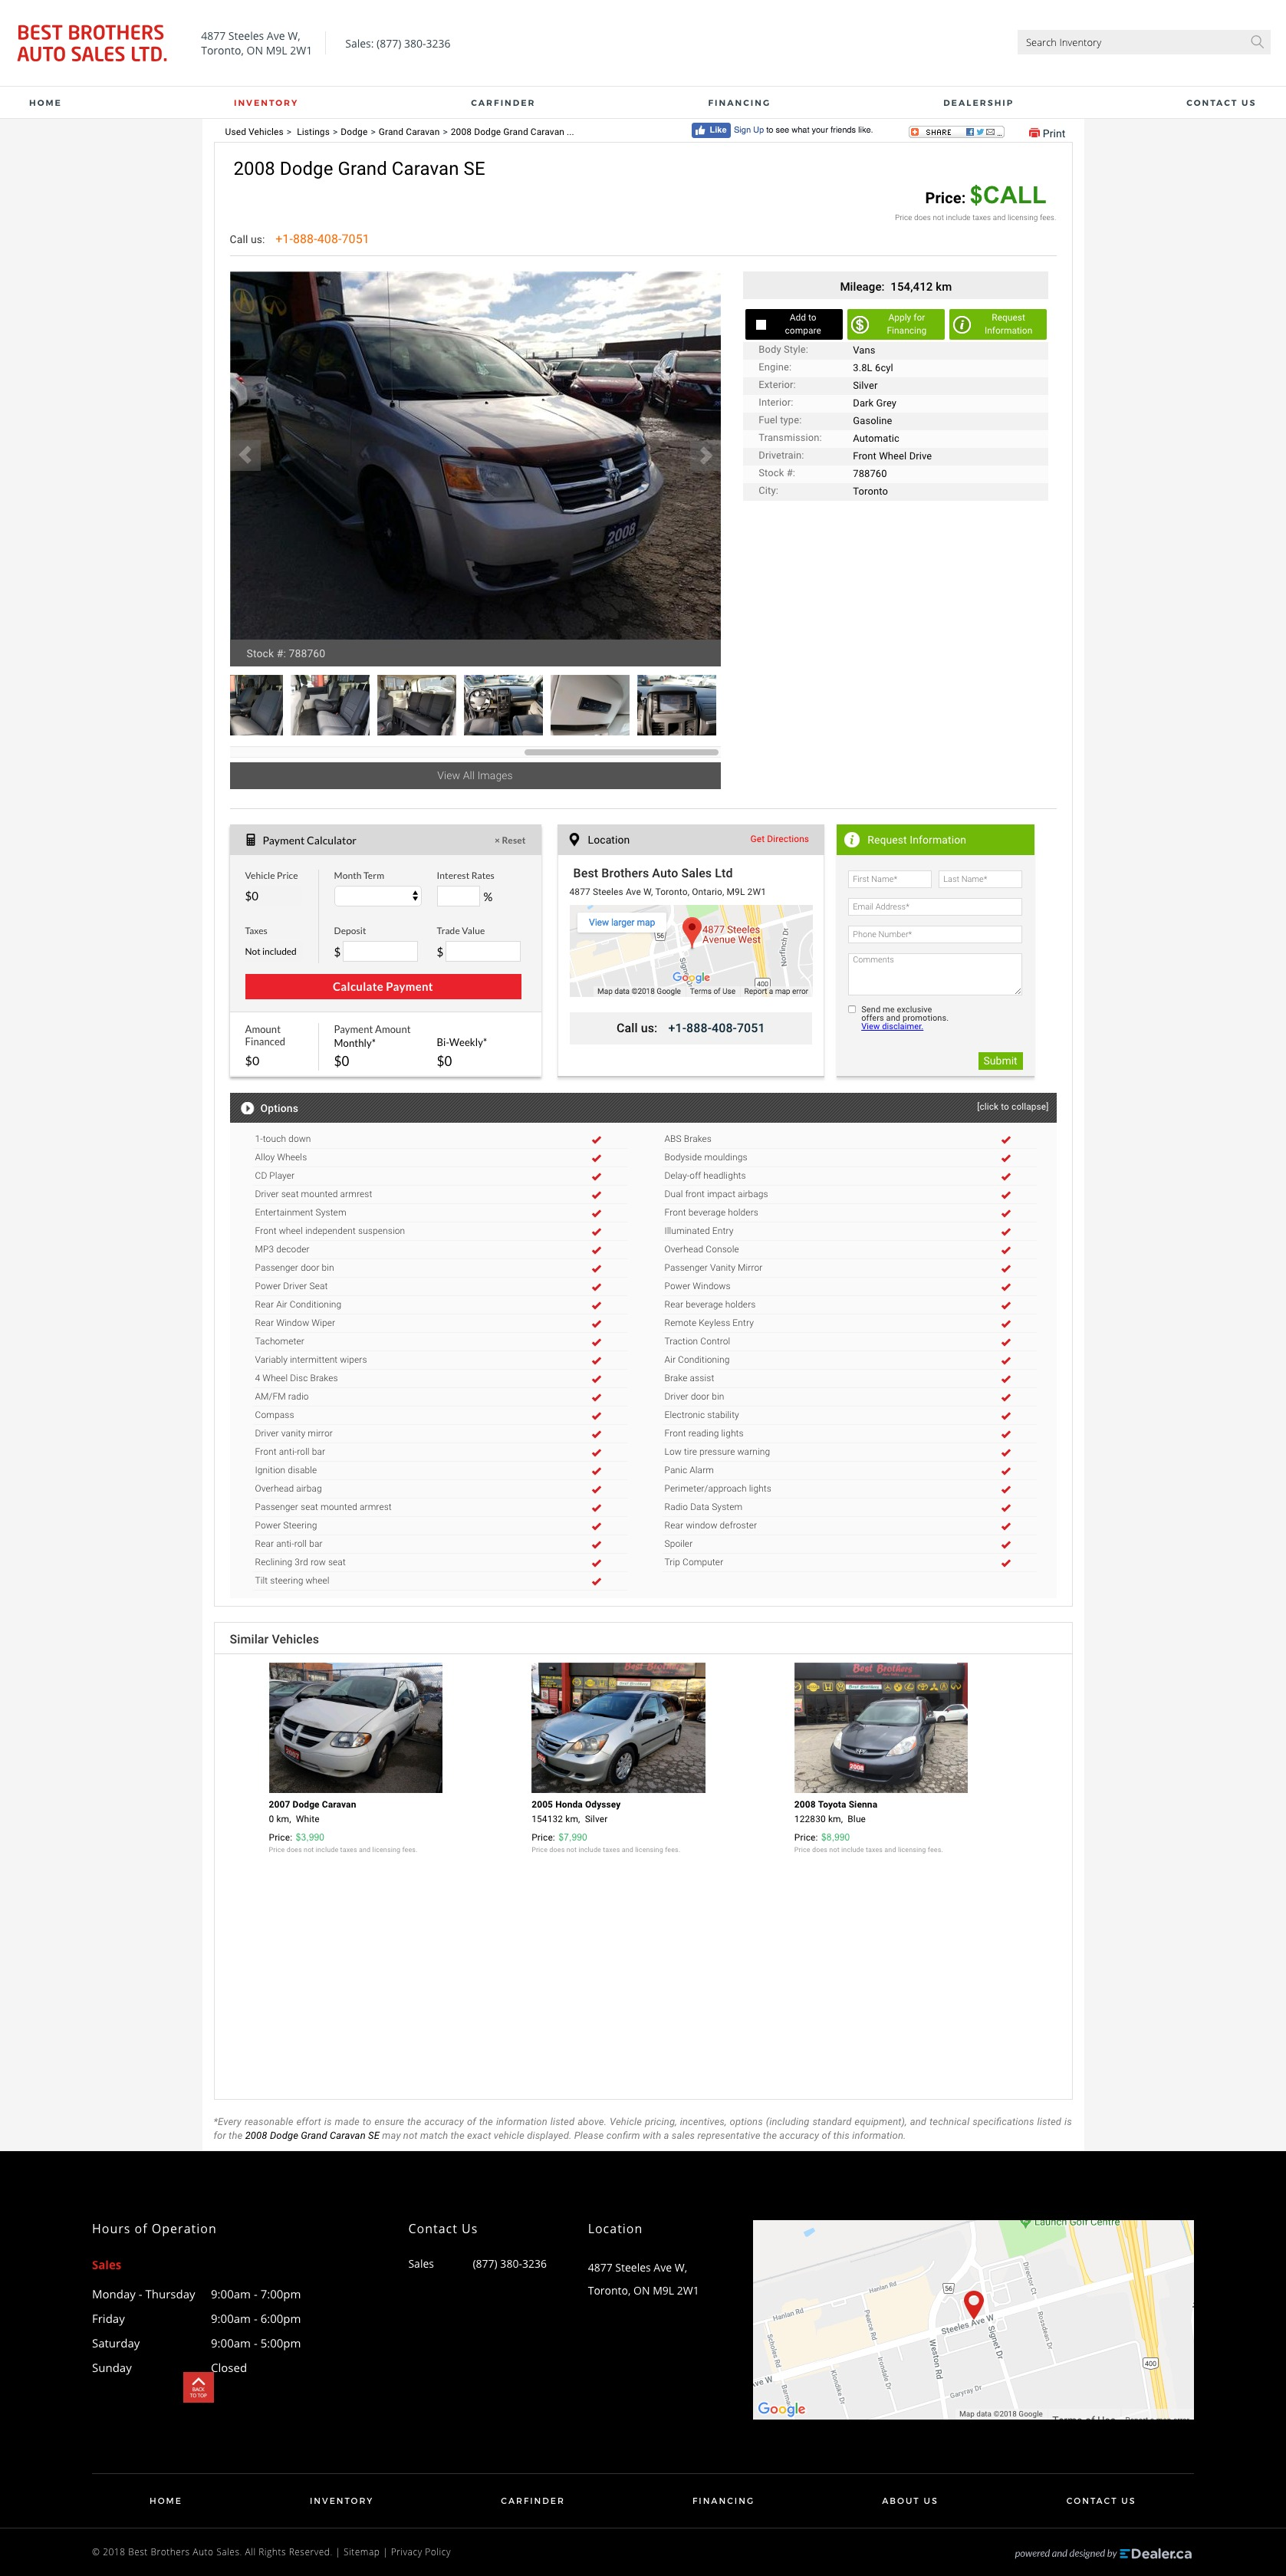car: (688, 439, 723, 473)
